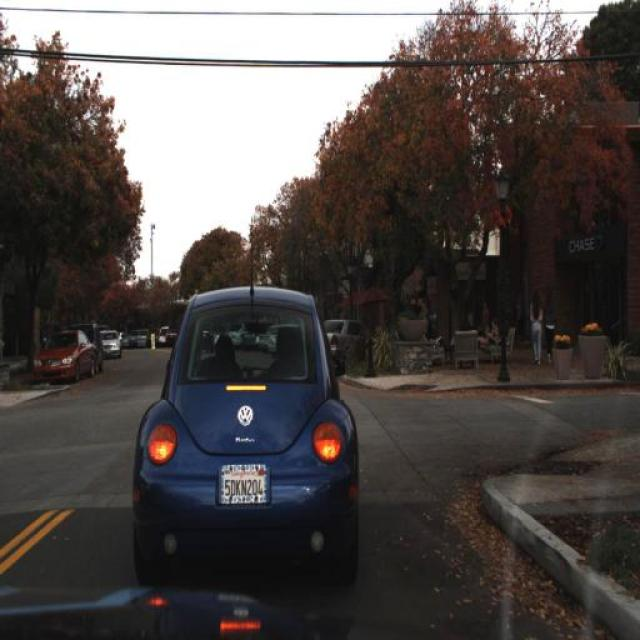car: (126, 266, 362, 592), (27, 326, 97, 384), (318, 317, 369, 362), (80, 317, 104, 363), (100, 328, 121, 358)
trafficLight: (528, 290, 542, 378), (543, 290, 557, 364), (476, 318, 503, 347), (513, 293, 526, 343)
